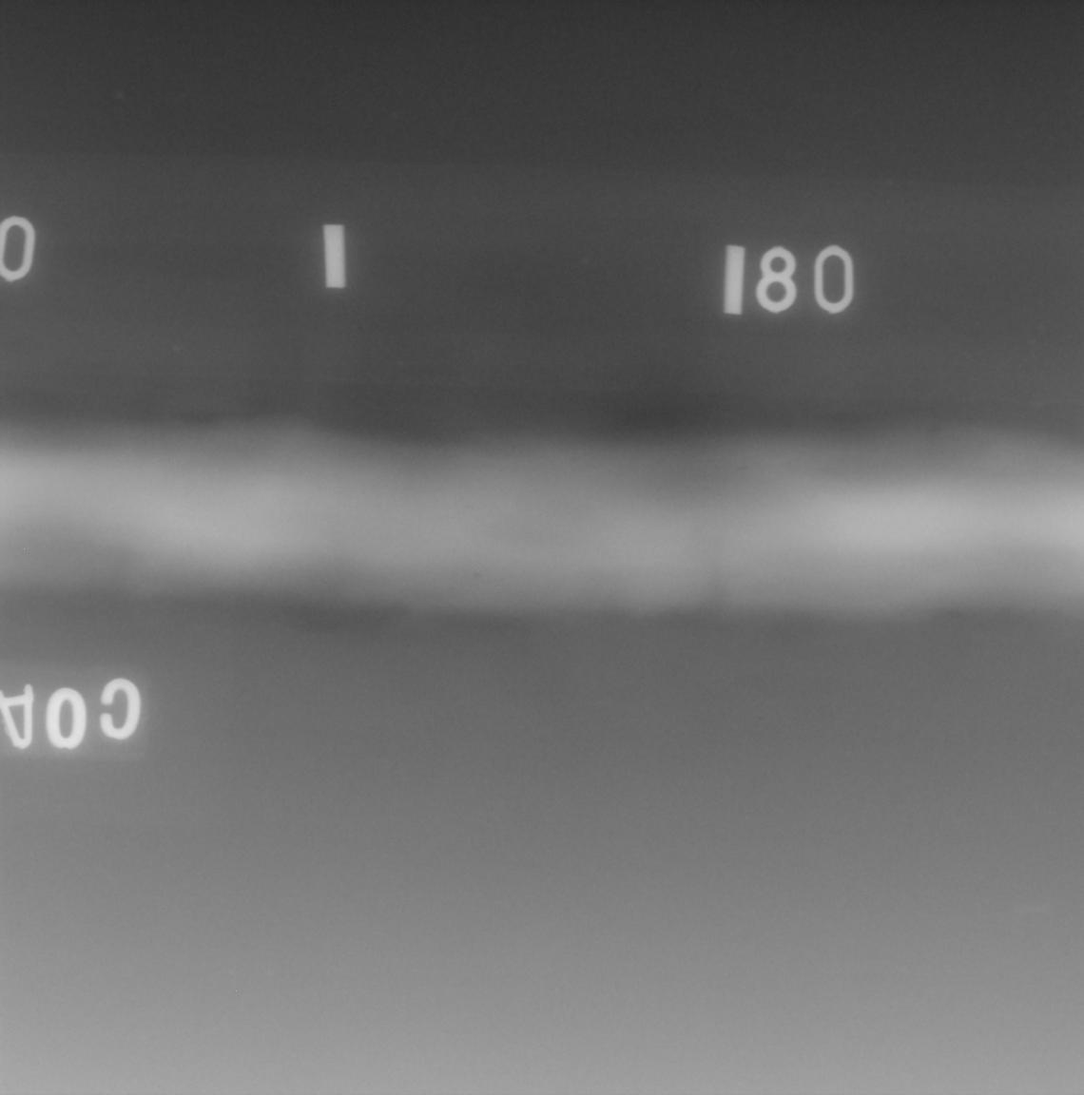Pore/Porosity: (473, 573, 481, 579)
